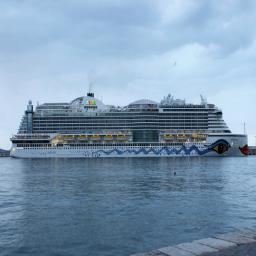cruises: (11, 93, 253, 164)
